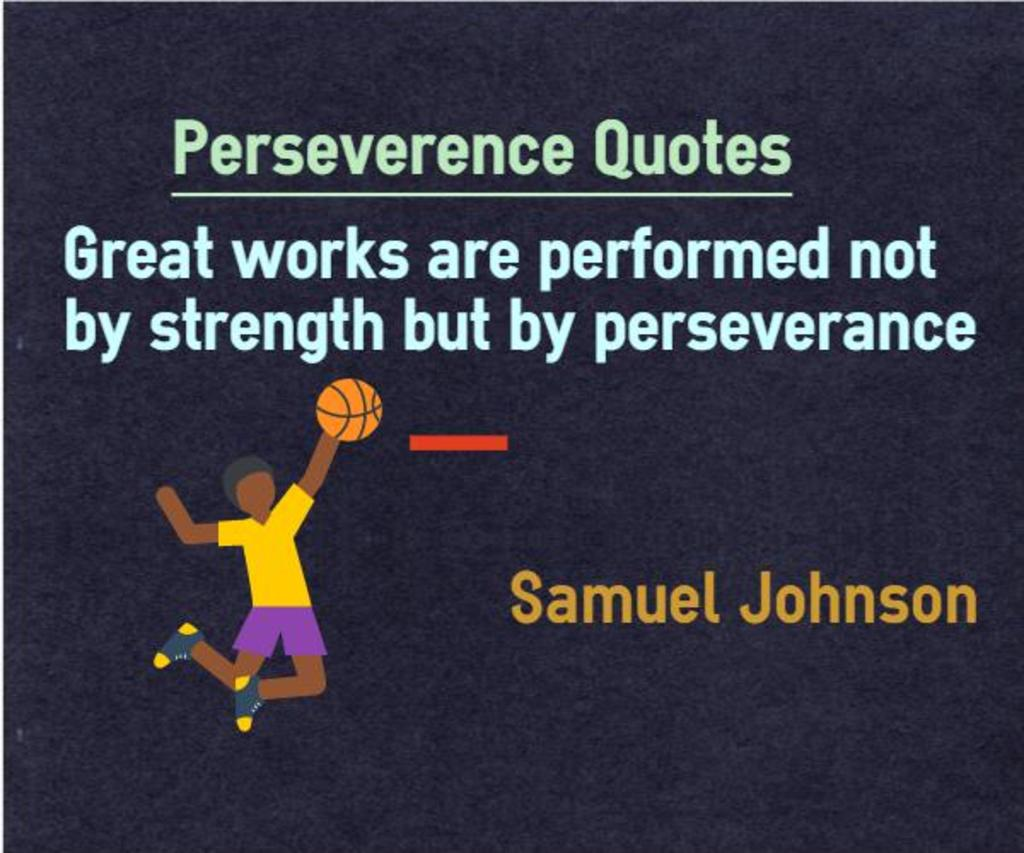Ball: (319, 382, 379, 437)
